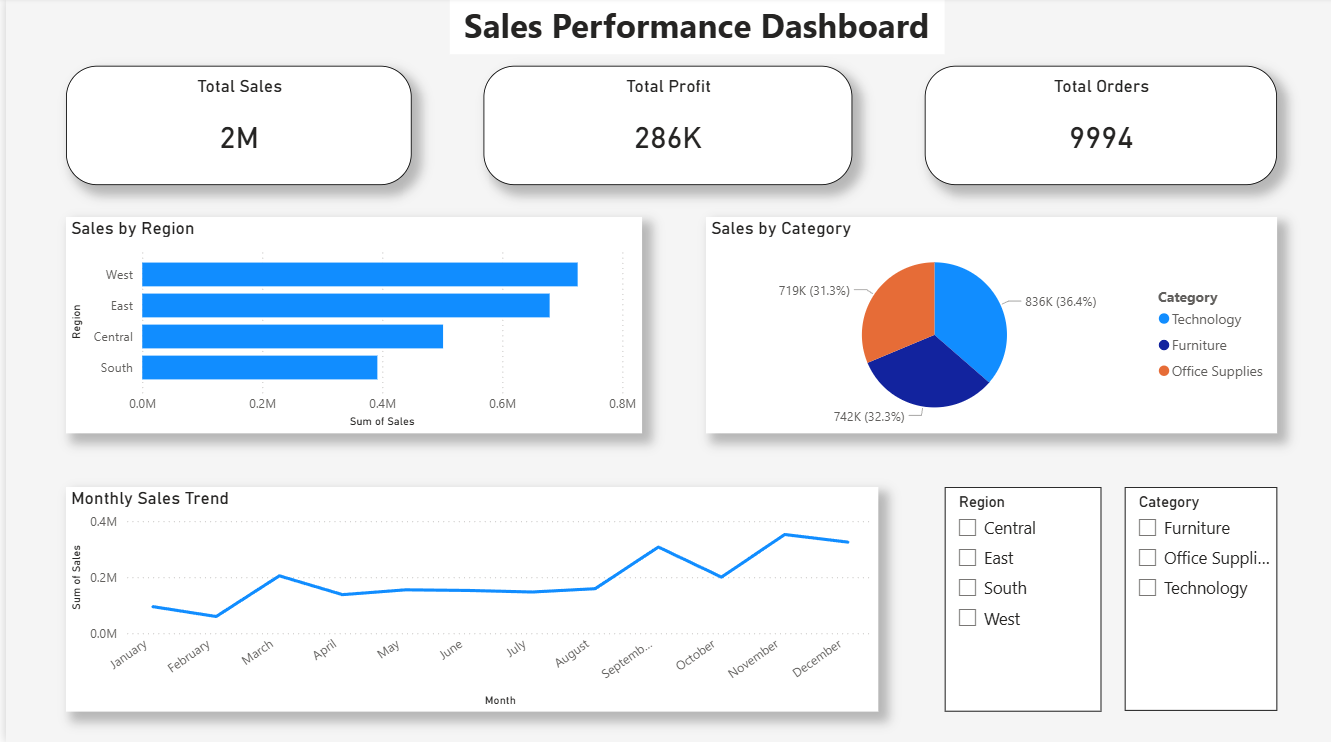

Layout of this report page (visuals, bound fields, positions):
{"tool":"powerbi","page":{"name":"Page 1","canvas":[1280,720],"ordinal":0},"visuals":[{"type":"card","title":"Total Sales","fields":{"Values":["Sum(Superstore (2).Total Revenue)"]},"box":[57.5,66,333.8,114.9],"z":0},{"type":"card","title":"Total Profit","fields":{"Values":["Sum(Superstore (2).Profit)"]},"box":[461,66,355.8,114.9],"z":1000},{"type":"card","title":"Total Orders","fields":{"Values":["CountNonNull(Superstore (2).Order ID)"]},"box":[886.6,66,339.9,114.9],"z":2000},{"type":"clusteredBarChart","title":"Sales by Region","fields":{"Category":["Superstore (2).Region"],"Y":["Sum(Superstore (2).Sales)"]},"box":[57.9,212.3,556.2,208.7],"z":3000},{"type":"pieChart","title":"Sales by Category","fields":{"Category":["Superstore (2).Category"],"Y":["Sum(Superstore (2).Sales)"]},"box":[675.6,212.3,551.3,208.7],"z":4000},{"type":"lineChart","title":"Monthly Sales Trend","fields":{"Category":["Superstore (2).Date.Variation.Date Hierarchy.Month"],"Y":["Sum(Superstore (2).Sales)"]},"box":[57.9,472.9,784.2,217.2],"z":5000},{"type":"slicer","fields":{"Values":["Superstore (2).Region"]},"box":[906,472.9,150.8,217.2],"z":6000},{"type":"slicer","fields":{"Values":["Superstore (2).Category"]},"box":[1079.8,472.9,147.2,216],"z":7000},{"type":"textbox","box":[428.3,0,477.8,55.5],"z":8000}]}

Visuals, with their boxes in screenshot pixels (x1, y1, x2, y2), scaled from the page's 1280x720 canvas onto the 1331x742 screenshot:
"Total Sales" card: {"x1": 60, "y1": 68, "x2": 407, "y2": 186}
"Total Profit" card: {"x1": 479, "y1": 68, "x2": 849, "y2": 186}
"Total Orders" card: {"x1": 922, "y1": 68, "x2": 1275, "y2": 186}
"Sales by Region" clusteredBarChart: {"x1": 60, "y1": 219, "x2": 639, "y2": 434}
"Sales by Category" pieChart: {"x1": 703, "y1": 219, "x2": 1276, "y2": 434}
"Monthly Sales Trend" lineChart: {"x1": 60, "y1": 487, "x2": 876, "y2": 711}
slicer - Superstore (2).Region: {"x1": 942, "y1": 487, "x2": 1099, "y2": 711}
slicer - Superstore (2).Category: {"x1": 1123, "y1": 487, "x2": 1276, "y2": 710}
textbox: {"x1": 445, "y1": 0, "x2": 942, "y2": 57}
